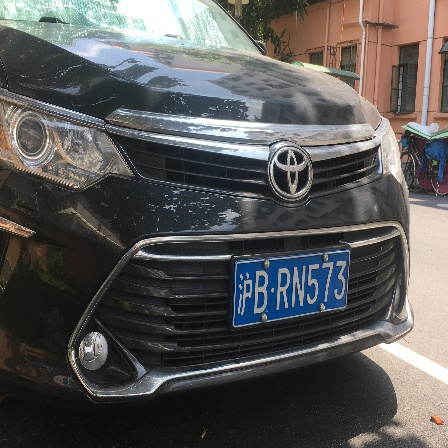plate: (231, 254, 355, 320)
